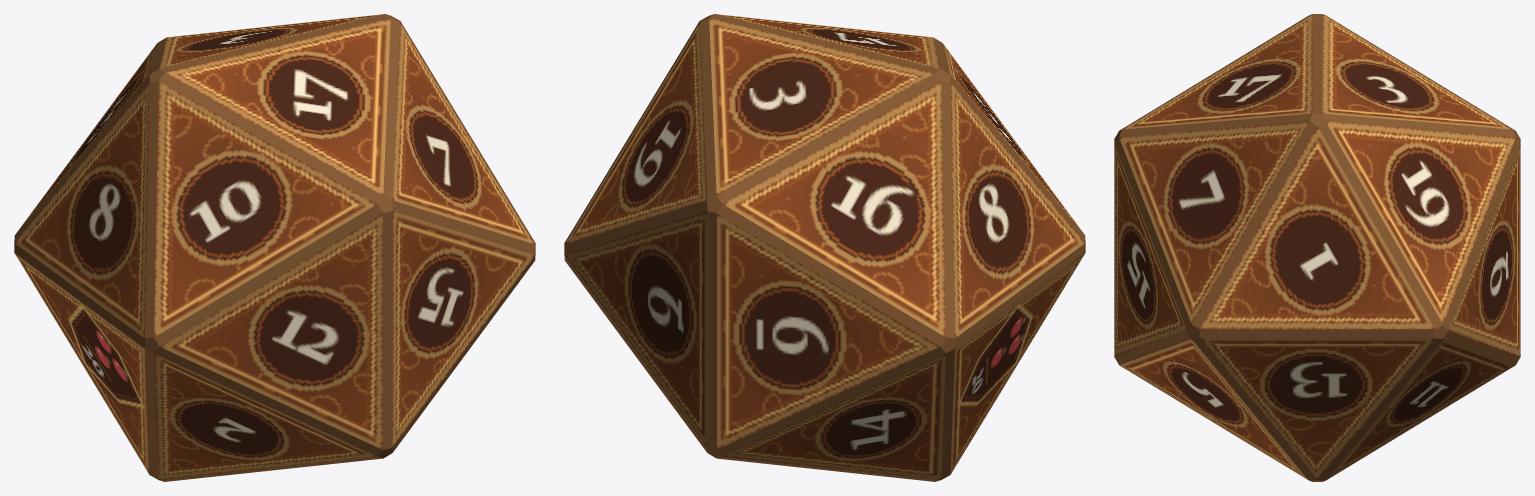
3 views of the same model, side by side, from view 1: azimuth 30°, elevation 25°; view 2: azimuth 150°, elevation 25°; view 3: azimuth 270°, elevation 25° (orthographic). The views are drawn at different scales.
Bounding box in the file's own units: 160 × 160 × 160.
Materials: 1 (1 with a texture image).
